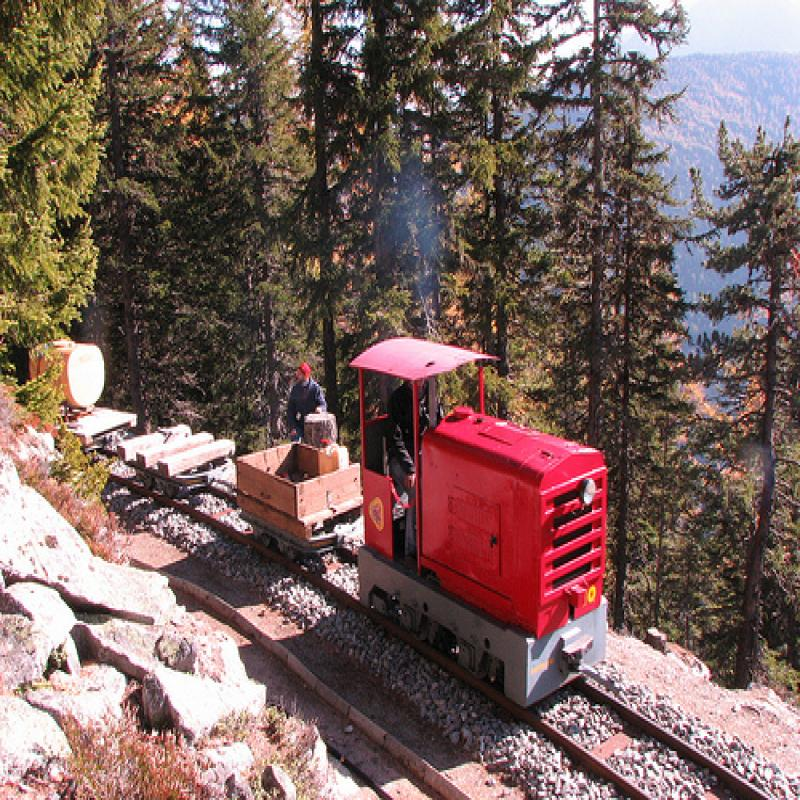train: (24, 341, 613, 712)
